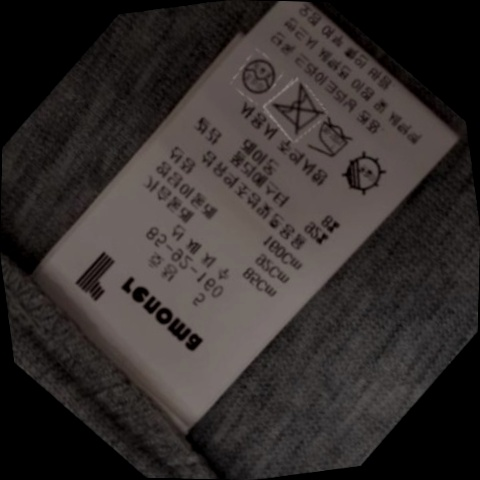DN_wash: (265, 83, 325, 136)
dry_clean_petrol_only: (233, 52, 280, 98)
iron_low: (305, 117, 358, 164)
line_dry_in_shade: (332, 150, 389, 199)
